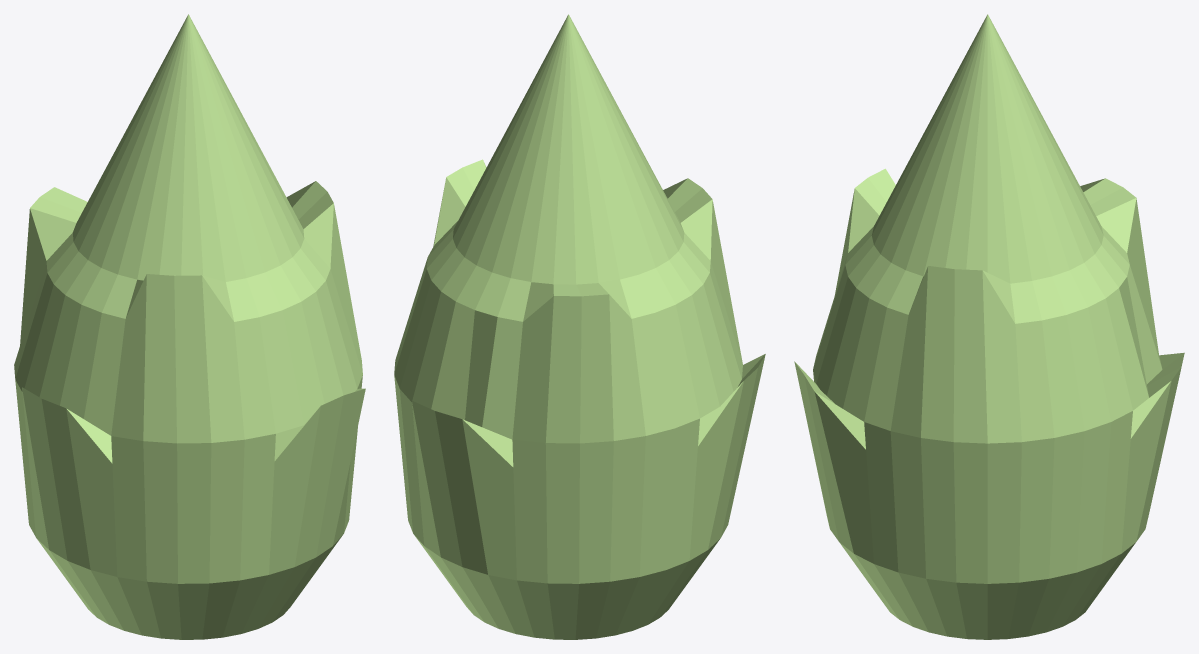
The model's file is bngboost.fbx.
The picture shows the model from 3 angles, left to right: view 1: azimuth 30°, elevation 25°; view 2: azimuth 150°, elevation 25°; view 3: azimuth 270°, elevation 25°; orthographic projection.
Visible parts, largest first — view 1: BangbooShoot; view 2: BangbooShoot; view 3: BangbooShoot.
Part boxes in pixels (<box>): BangbooShoot: <box>14,14,365,639</box>; BangbooShoot: <box>394,14,765,639</box>; BangbooShoot: <box>794,14,1184,639</box>.
Size of the model in its own units: 23.14 by 39.87 by 24.27.
